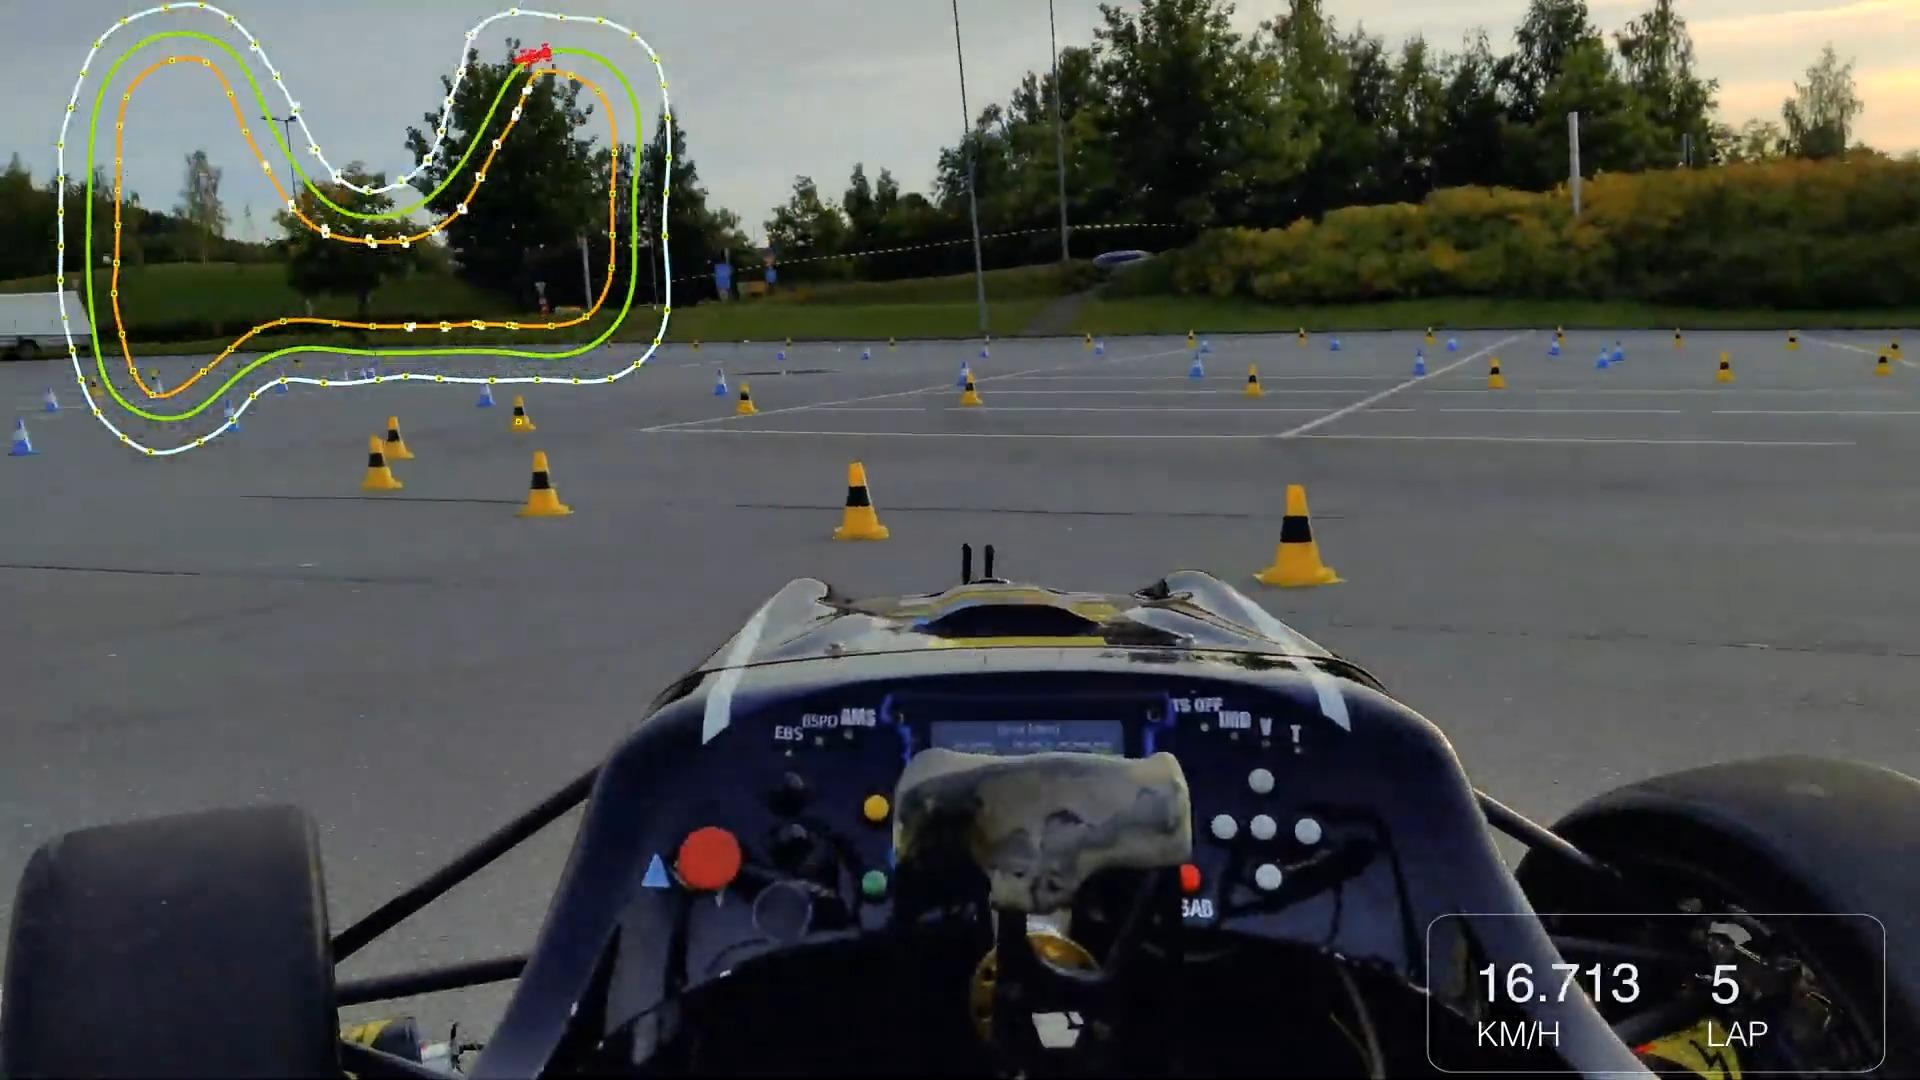blue_cone: (1, 419, 38, 462), (40, 386, 62, 421), (709, 365, 729, 397), (1189, 352, 1208, 382), (477, 381, 495, 410), (1411, 351, 1428, 377), (1594, 343, 1611, 367), (1611, 342, 1627, 364), (959, 360, 972, 386), (777, 348, 793, 364), (1447, 335, 1460, 353), (1549, 339, 1563, 357), (861, 347, 874, 364), (1093, 339, 1104, 356), (1328, 336, 1338, 352), (981, 343, 990, 360), (1200, 338, 1209, 353)
yellow_cone: (1254, 480, 1345, 589), (829, 462, 895, 546), (516, 450, 575, 518), (355, 431, 402, 492), (385, 413, 419, 464), (505, 394, 539, 435), (733, 381, 762, 418), (1245, 364, 1270, 401), (1482, 355, 1509, 389), (960, 376, 986, 409), (1871, 348, 1894, 377), (1714, 352, 1734, 384), (1784, 331, 1803, 352), (1888, 338, 1903, 364), (1672, 328, 1687, 352), (1185, 331, 1199, 352), (1295, 327, 1309, 345), (1423, 327, 1437, 345), (1556, 326, 1568, 342), (889, 336, 899, 352), (1084, 334, 1093, 349)
